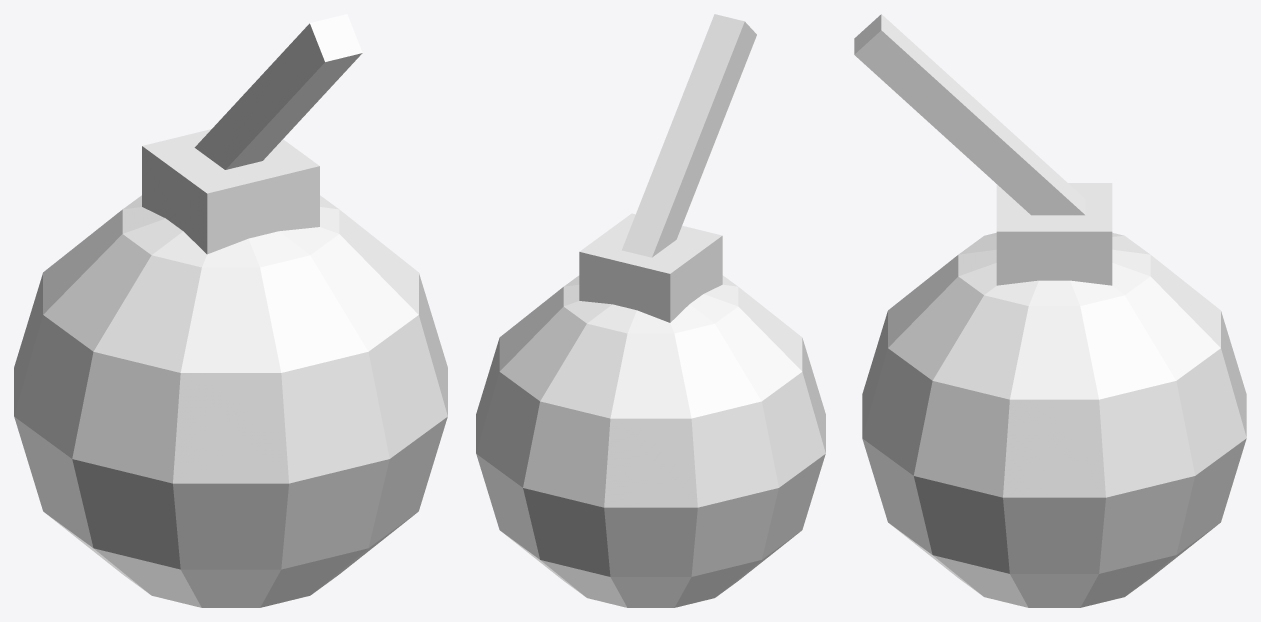
The model's file is bomb.glb.
3 renders of one model, left to right at view 1: azimuth 30°, elevation 25°; view 2: azimuth 150°, elevation 25°; view 3: azimuth 270°, elevation 25°, orthographic. The views are drawn at different scales.
Visible parts, largest first — view 1: sphere; view 2: sphere; view 3: sphere.
Part boxes in pixels (x1,y1,x2,y2): sphere: (14,14,447,607); sphere: (476,14,825,607); sphere: (854,14,1246,607).
Bounding box in the file's own units: 0.625 × 1.02 × 0.6379.
Materials: 1 (1 with a texture image).
